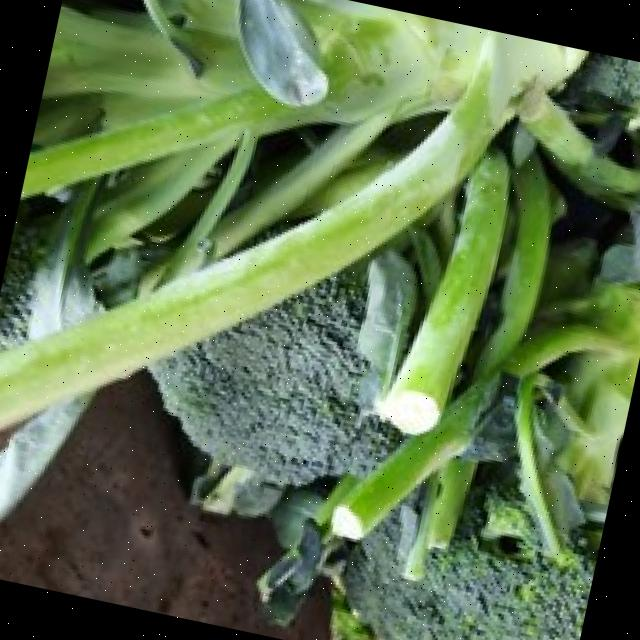Broccoli: (152, 266, 400, 484), (152, 267, 400, 483), (344, 483, 598, 640), (344, 511, 598, 640)
